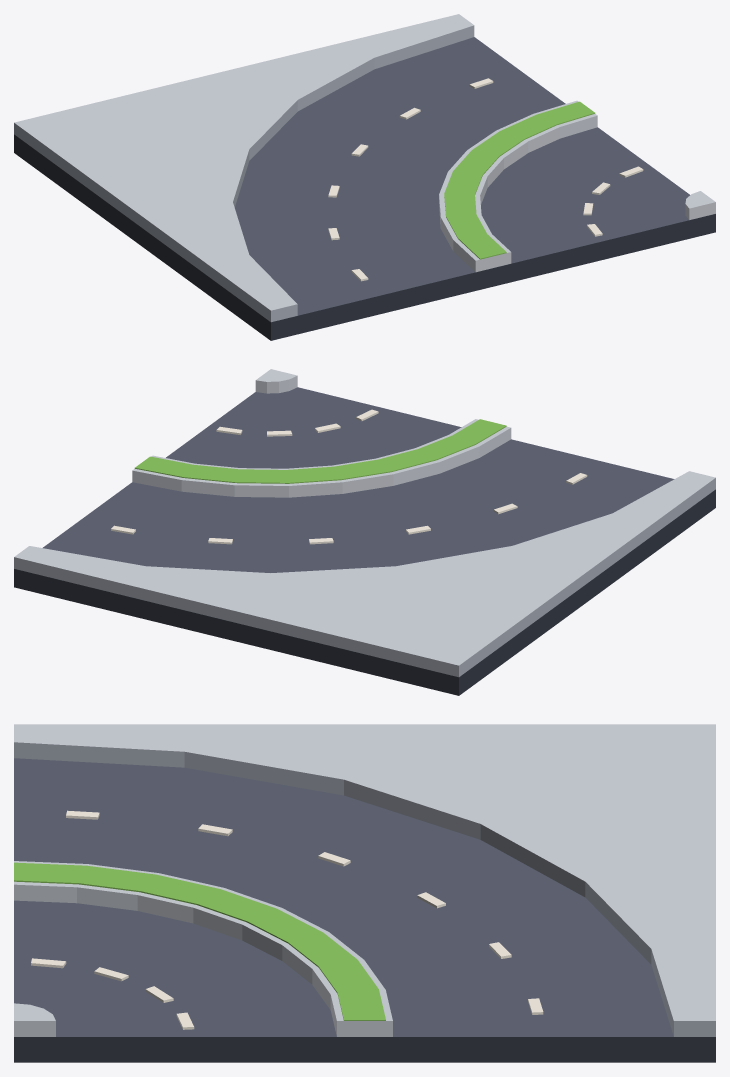
File: avenue_corner.glb
3 views of the same model, one above another, from view 1: azimuth 30°, elevation 25°; view 2: azimuth 150°, elevation 25°; view 3: azimuth 270°, elevation 25° (orthographic). The views are drawn at different scales.
Parts seen in each view (by area): view 1: avenue_corner; view 2: avenue_corner; view 3: avenue_corner.
Boxes of the visible parts, <box> form: avenue_corner: <box>14,14,715,340</box>; avenue_corner: <box>14,369,715,695</box>; avenue_corner: <box>14,724,715,1062</box>.
Size of the model in its own units: 1 by 0.067 by 1.
